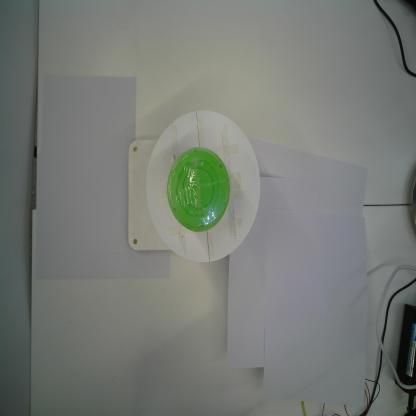Instant Drink: (166, 146, 232, 234)
